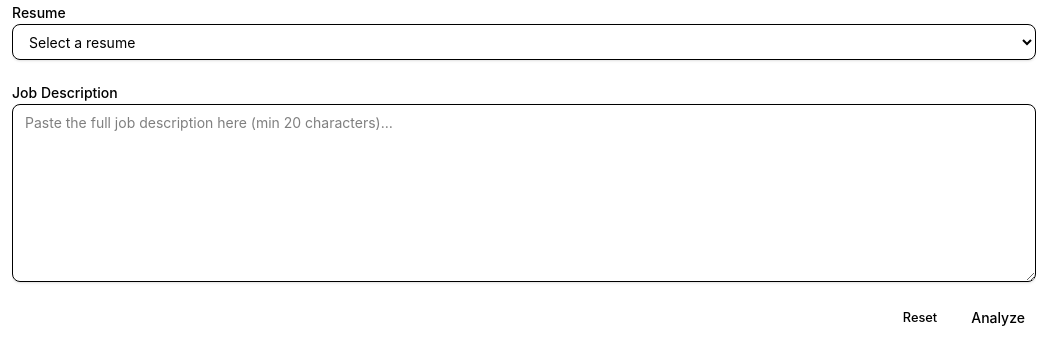
AnalyzeForm › resets form when Reset button is clicked
Step 1. Type "Some text" into the text box labelled "Job Description" → (524, 193), box top-left (12, 104), bottom-right (1036, 282)
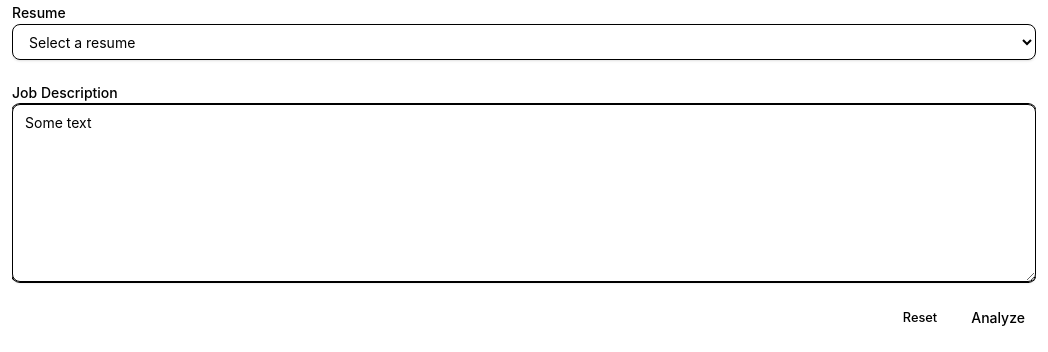
Step 2. Click the button "Reset" → (920, 318), box top-left (892, 304), bottom-right (948, 332)
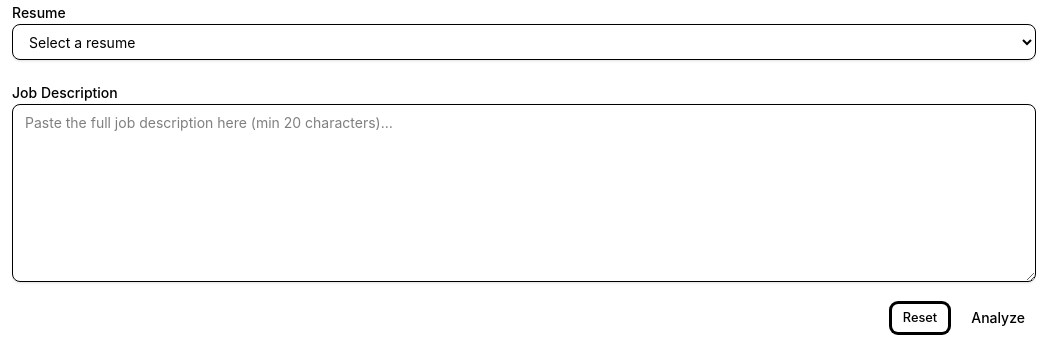
Result: the text box labelled "Job Description" is empty at top-left (12, 104), bottom-right (1036, 282)
